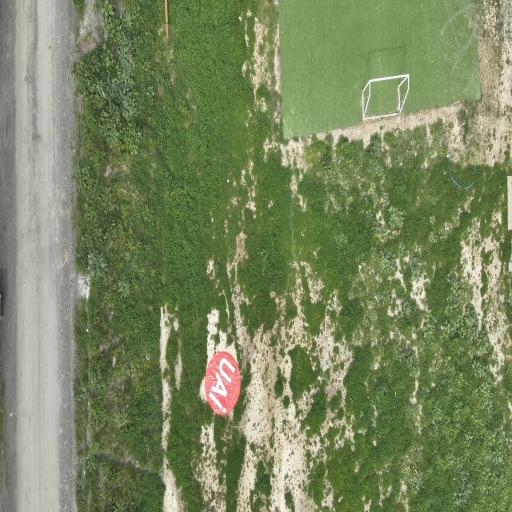UAI: (206, 352, 240, 415)
